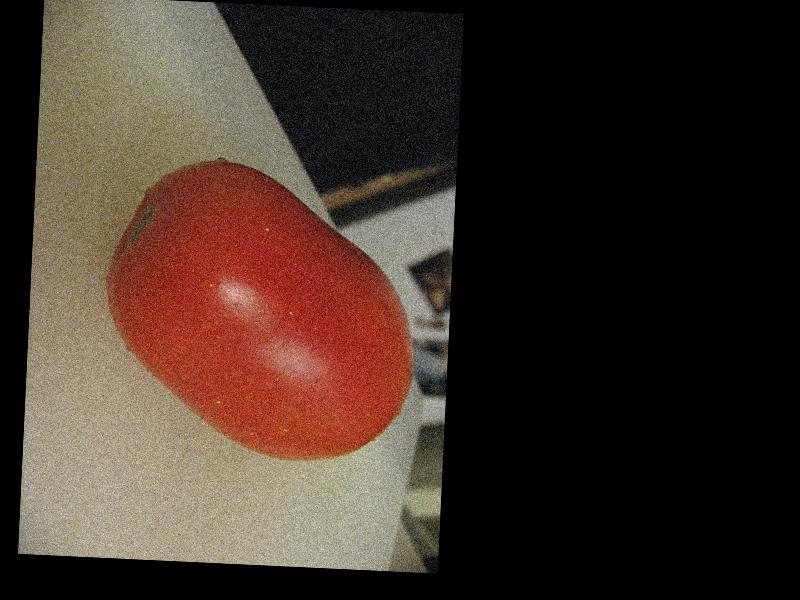Tomato: (101, 155, 423, 464)
